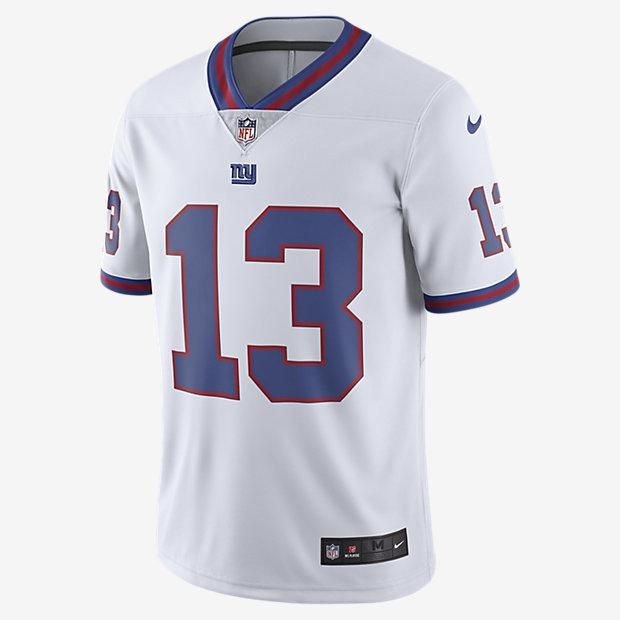teeshirt: (58, 8, 533, 606)
